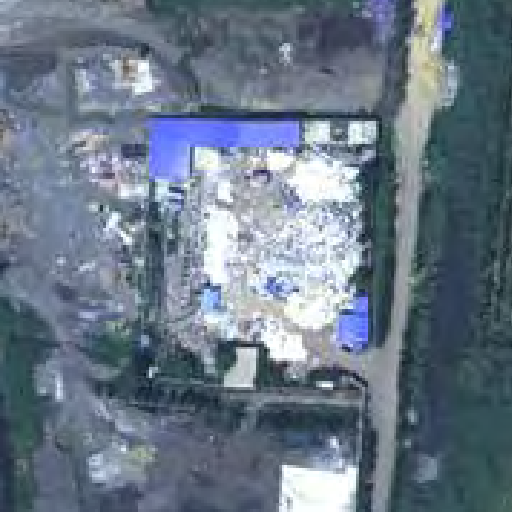msw: (185, 146, 366, 325)
